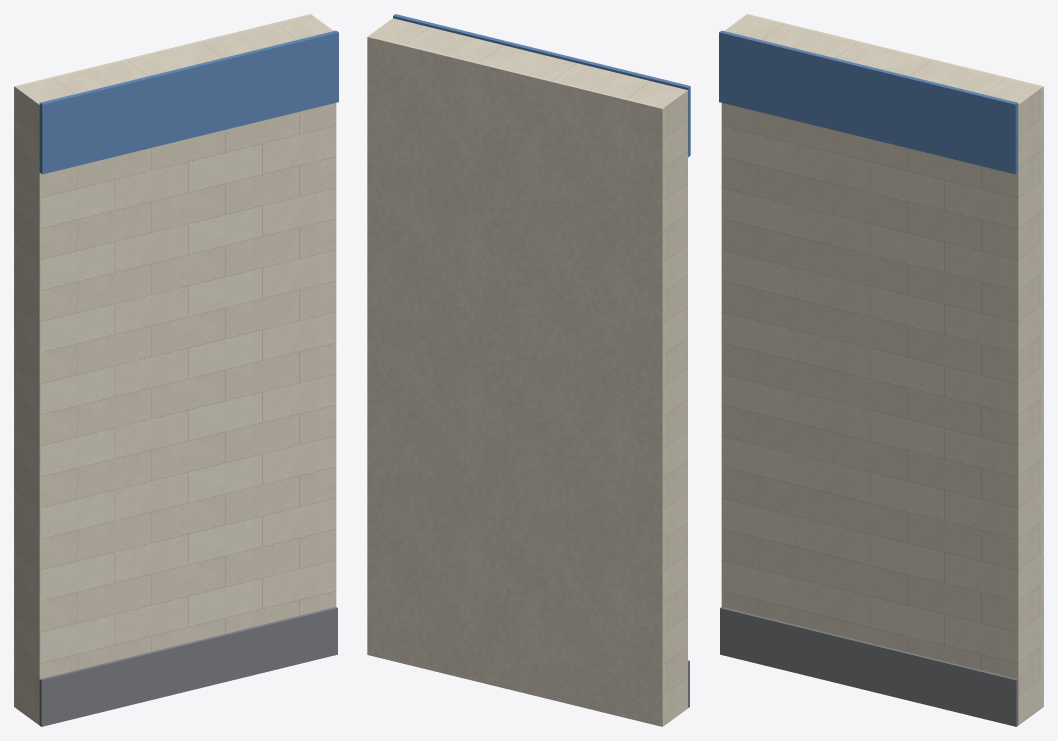
Rendered from wall_store_plain.glb.
3 renders of one model, left to right at view 1: azimuth 30°, elevation 25°; view 2: azimuth 150°, elevation 25°; view 3: azimuth 330°, elevation 25°, orthographic.
Parts seen in each view (by area): view 1: wall_store_plain_block, wall_store_plain_band, wall_store_plain_dark, wall_store_plain_plaster; view 2: wall_store_plain_plaster, wall_store_plain_block, wall_store_plain_band; view 3: wall_store_plain_block, wall_store_plain_band, wall_store_plain_dark, wall_store_plain_plaster.
Boxes of the visible parts, left/top/right/bottom form: wall_store_plain_block: left=16, top=15, right=336, bottom=725; wall_store_plain_band: left=39, top=30, right=338, bottom=174; wall_store_plain_dark: left=39, top=607, right=337, bottom=726; wall_store_plain_plaster: left=14, top=14, right=311, bottom=707; wall_store_plain_plaster: left=367, top=35, right=664, bottom=726; wall_store_plain_block: left=369, top=18, right=687, bottom=725; wall_store_plain_band: left=393, top=14, right=690, bottom=157; wall_store_plain_block: left=721, top=15, right=1041, bottom=725; wall_store_plain_band: left=719, top=30, right=1018, bottom=174; wall_store_plain_dark: left=720, top=607, right=1018, bottom=726; wall_store_plain_plaster: left=746, top=14, right=1043, bottom=707.
Bounding box in the file's own units: 2 × 4.01 × 0.33.
Materials: 4 (2 with a texture image).
